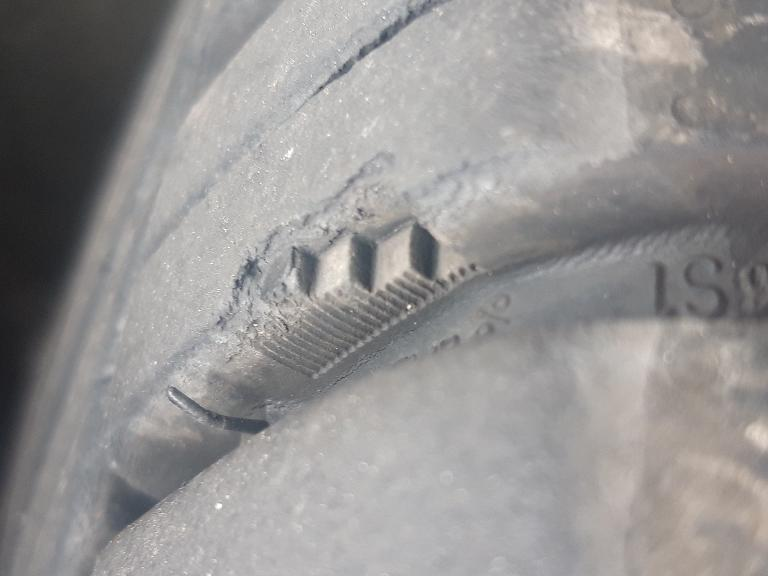temoin:80: (209, 143, 503, 392)
